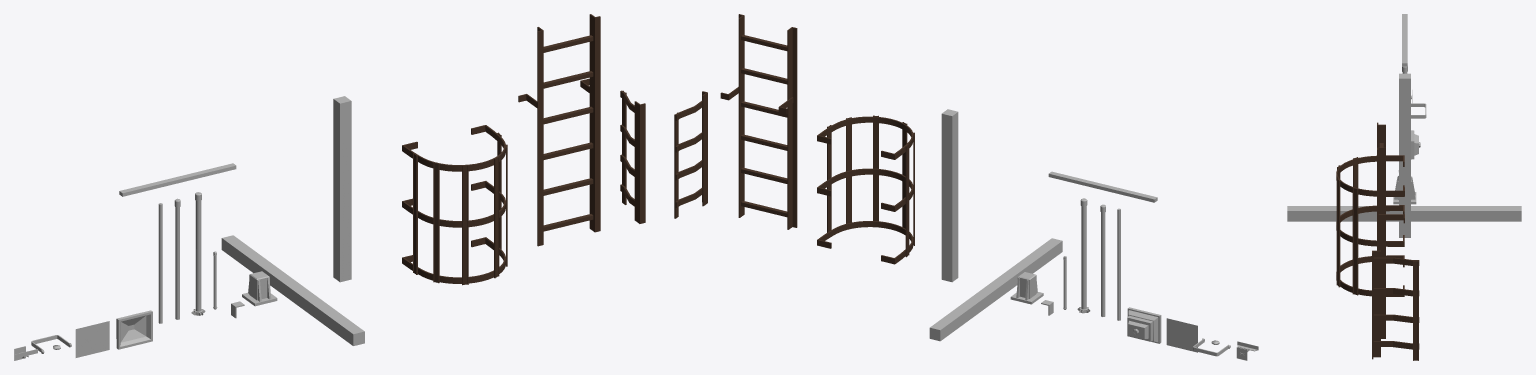
File: railing1.fbx
The picture shows the model from 3 angles, left to right: view 1: azimuth 30°, elevation 25°; view 2: azimuth 150°, elevation 25°; view 3: azimuth 270°, elevation 25°; orthographic projection. The views are drawn at different scales.
Parts seen in each view (by area): view 1: Ladder.001, LadderCage, Railing_Verticle, Railing_Horisontal, LadderTop, FloodLight.001, FL_Glass, FL_Stand_Telescop03, FL_Stand_Bar, Railing_base, FL_Stand_Telescop02, FL_Stand_Telescop01; view 2: Ladder.001, LadderCage, Railing_Verticle, Railing_Horisontal, LadderTop, FloodLight.001, FL_Glass, FL_Stand_Bar, FL_Stand_Telescop03, Railing_base, FL_Stand_Telescop02; view 3: LadderCage, Railing_Horisontal, LadderTop, Railing_Verticle, Ladder.001, FL_Stand_Bar, Railing_base, FloodLight.001.
Part boxes in pixels (x1,y1,x2,y2): Ladder.001: (518, 14, 600, 246); LadderCage: (402, 125, 507, 285); Railing_Verticle: (333, 96, 351, 282); Railing_Horisontal: (221, 235, 364, 345); LadderTop: (620, 90, 645, 223); FloodLight.001: (116, 310, 152, 349); FL_Glass: (75, 321, 109, 357); FL_Stand_Telescop03: (191, 192, 205, 315); FL_Stand_Bar: (119, 163, 236, 196); Railing_base: (242, 271, 277, 306); FL_Stand_Telescop02: (174, 198, 180, 319); FL_Stand_Telescop01: (158, 203, 162, 323); Ladder.001: (720, 14, 797, 229); LadderCage: (817, 115, 914, 264); Railing_Verticle: (941, 109, 958, 282); Railing_Horisontal: (929, 238, 1062, 341); LadderTop: (674, 91, 707, 218); FloodLight.001: (1127, 307, 1161, 343); FL_Glass: (1166, 318, 1197, 352); FL_Stand_Bar: (1048, 171, 1157, 202); FL_Stand_Telescop03: (1077, 198, 1090, 313); Railing_base: (1010, 272, 1043, 304); FL_Stand_Telescop02: (1100, 204, 1105, 316); LadderCage: (1336, 155, 1404, 296); Railing_Horisontal: (1287, 206, 1521, 221); LadderTop: (1372, 250, 1419, 360); Railing_Verticle: (1399, 73, 1410, 237); Ladder.001: (1377, 122, 1404, 338); FL_Stand_Bar: (1402, 14, 1407, 66); Railing_base: (1393, 176, 1416, 204); FloodLight.001: (1411, 130, 1420, 159).
Bounding box in the file's own units: 543 × 192 × 200.
